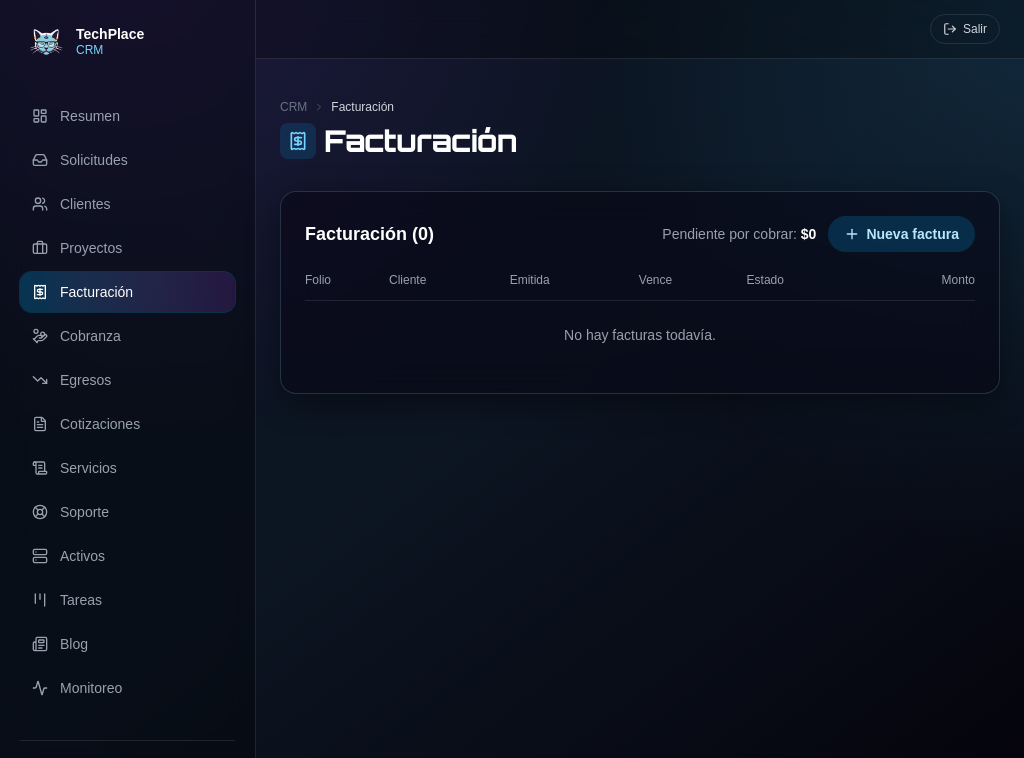
Test: CrmDashboard › switches to Cotizaciones when that nav item is clicked
Click the button "Cotizaciones".
click(128, 424)  # box [20,404,235,444]
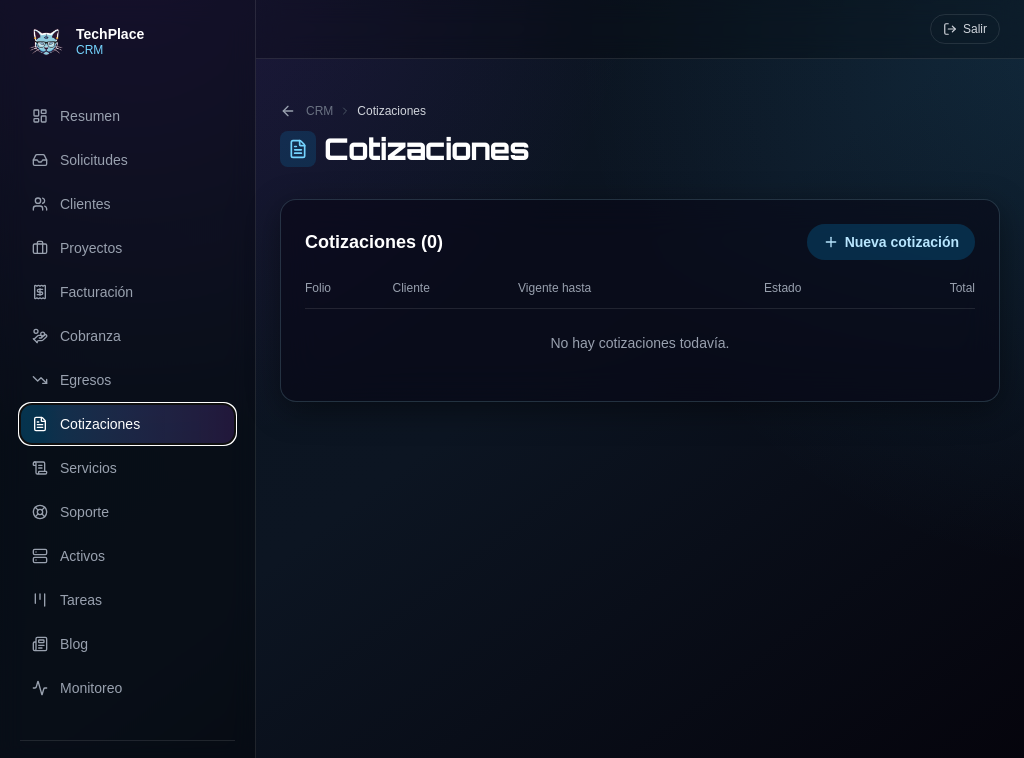
Now the heading "Cotizaciones (0)" is shown, box [305,228,443,256]
